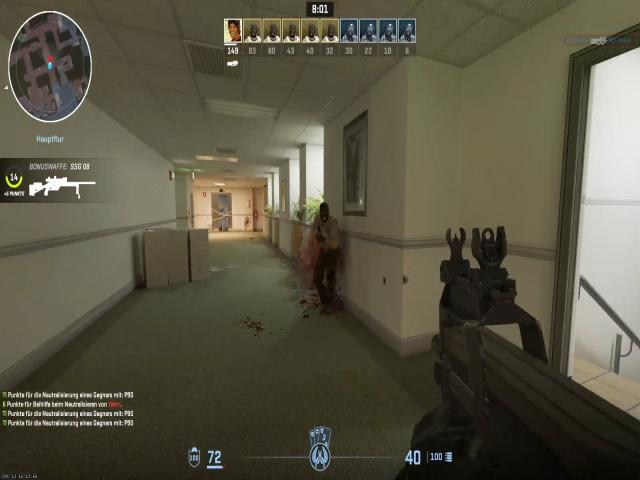T: (314, 200, 340, 274)
T-Head: (318, 198, 334, 224)
